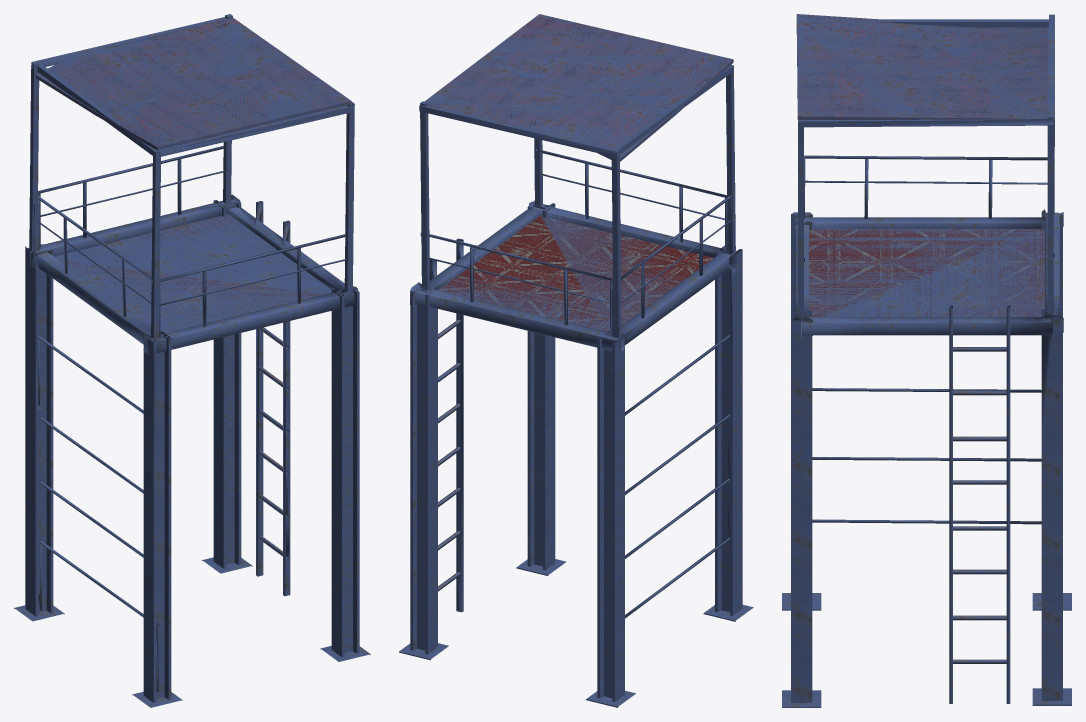
The model's file is Metal_Tower.fbx.
3 views of the same model, side by side, from view 1: azimuth 30°, elevation 25°; view 2: azimuth 150°, elevation 25°; view 3: azimuth 270°, elevation 25° (orthographic). The views are drawn at different scales.
Visible parts, largest first — view 1: Group1; view 2: Group1; view 3: Group1.
Boxes of the visible parts, <box> form: Group1: <box>14,14,370,707</box>; Group1: <box>399,14,753,707</box>; Group1: <box>782,14,1071,707</box>.
Bounding box in the file's own units: 129 × 310 × 139.
